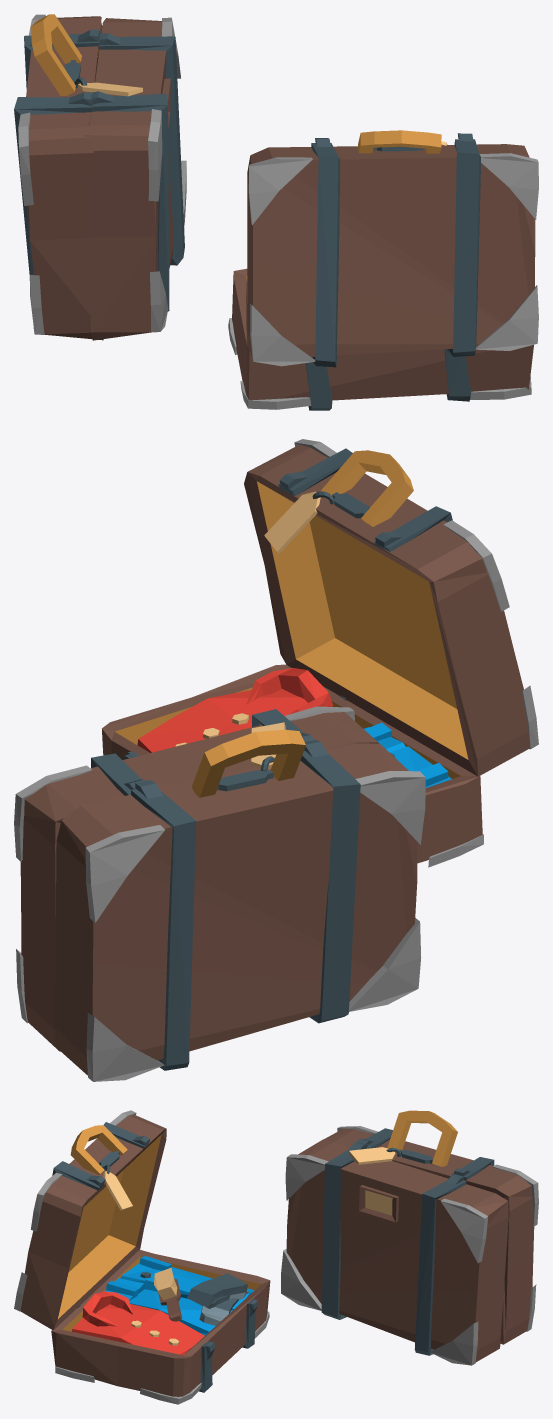
The picture shows the model from 3 angles, top to bottom: view 1: azimuth 30°, elevation 25°; view 2: azimuth 150°, elevation 25°; view 3: azimuth 270°, elevation 25°; orthographic projection. The views are drawn at different scales.
Visible parts, largest first — view 1: group_971960435, group_881833563; view 2: group_881833563, group_971960435; view 3: group_881833563, group_971960435.
Part boxes in pixels (box(x1,y1,x2,y2)): group_971960435: box(228, 130, 538, 410); group_881833563: box(14, 14, 186, 340); group_881833563: box(14, 706, 425, 1081); group_971960435: box(102, 439, 538, 867); group_881833563: box(281, 1110, 538, 1365); group_971960435: box(14, 1110, 270, 1404).
Size of the model in its own units: 59.92 by 44.95 by 96.
